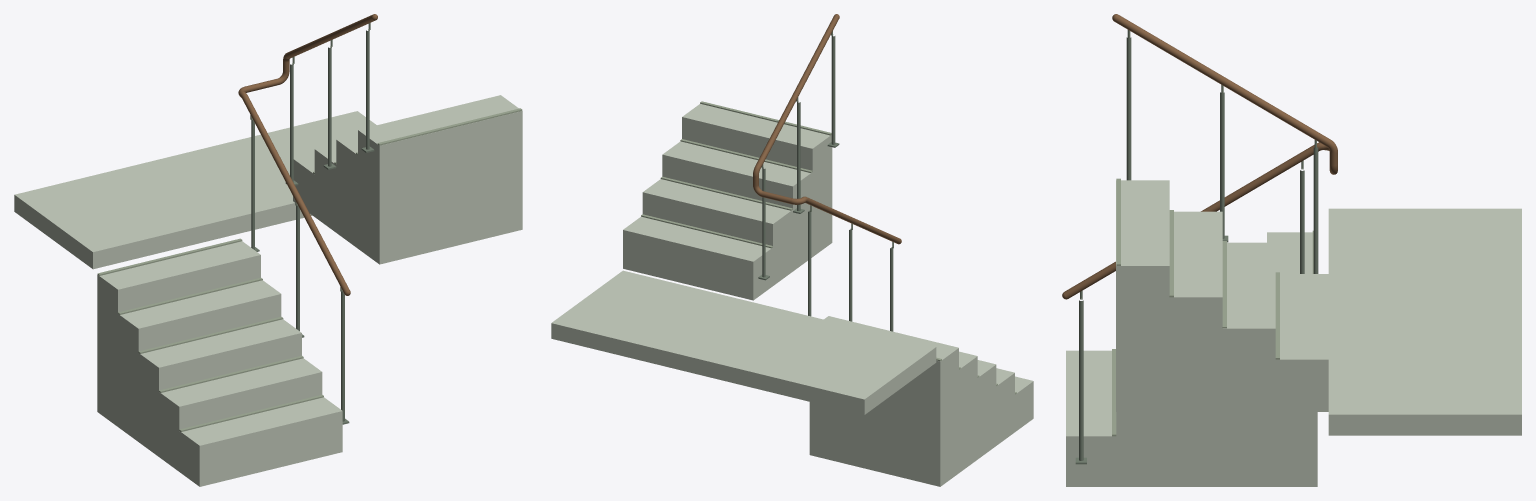
3 views of the same model, side by side, from view 1: azimuth 30°, elevation 25°; view 2: azimuth 150°, elevation 25°; view 3: azimuth 270°, elevation 25° (orthographic). The views are drawn at different scales.
Parts seen in each view (by area): view 1: Estimated return landing, Estimated flight 2 step 4, Estimated flight 1 step 1, Estimated flight 1 step 5, Estimated flight 1 step 4, Estimated flight 1 step 3, Estimated flight 1 step 2, Estimated flight 2 step 3, Estimated flight 2 step 2, Flight segment 1, Estimated nosing (×2), Estimated flight 2 step 1 (+1 smaller); view 2: Estimated return landing, Estimated flight 1 step 5, Estimated flight 2 step 1, Estimated flight 2 step 4, Estimated flight 2 step 2, Estimated flight 2 step 3, Estimated flight 1 step 4, Estimated flight 1 step 3, Estimated flight 1 step 2, Flight segment 5, Estimated flight 1 step 1, Flight segment 1 (+1 smaller); view 3: Estimated return landing, Estimated flight 2 step 4, Estimated flight 2 step 3, Estimated flight 2 step 2, Estimated flight 2 step 1, Estimated flight 1 step 1, Estimated flight 1 step 5, Estimated flight 1 step 2, Estimated flight 1 step 4, Estimated flight 1 step 3, Estimated baluster (×5), Flight segment 5 (+1 smaller).
Part boxes in pixels (x1,y1,x2,y2): Estimated return landing: (14,111,376,269); Estimated flight 2 step 4: (358,95,522,264); Estimated flight 1 step 1: (179,397,342,486); Estimated flight 1 step 5: (97,241,260,426); Estimated flight 1 step 4: (118,280,281,441); Estimated flight 1 step 3: (138,319,301,456); Estimated flight 1 step 2: (158,358,322,471); Estimated flight 2 step 3: (336,134,357,248); Estimated flight 2 step 2: (314,144,336,232); Flight segment 1: (242,95,349,293); Estimated nosing (×2): (97,108,522,275); Estimated flight 2 step 1: (293,153,314,216); Estimated return landing: (551,270,936,414); Estimated flight 1 step 5: (809,316,958,486); Estimated flight 2 step 1: (623,216,772,300); Estimated flight 2 step 4: (682,103,832,256); Estimated flight 2 step 2: (642,179,792,285); Estimated flight 2 step 3: (662,141,812,271); Estimated flight 1 step 4: (959,351,977,472); Estimated flight 1 step 3: (977,360,996,459); Estimated flight 1 step 2: (996,368,1014,445); Flight segment 5: (755,15,839,168); Estimated flight 1 step 1: (1015,376,1033,431); Flight segment 1: (805,197,901,244); Estimated return landing: (1328,208,1521,435); Estimated flight 2 step 4: (1116,180,1169,411); Estimated flight 2 step 3: (1169,211,1222,411); Estimated flight 2 step 2: (1222,242,1275,411); Estimated flight 2 step 1: (1275,274,1328,411); Estimated flight 1 step 1: (1066,350,1116,486); Estimated flight 1 step 5: (1267,232,1317,486); Estimated flight 1 step 2: (1116,412,1166,486); Estimated flight 1 step 4: (1216,412,1267,486); Estimated flight 1 step 3: (1166,412,1216,486); Estimated baluster (×5): (1079,37,1318,460); Flight segment 5: (1114,15,1330,146).
Size of the model in its own units: 2.52 by 2.88 by 2.38.
